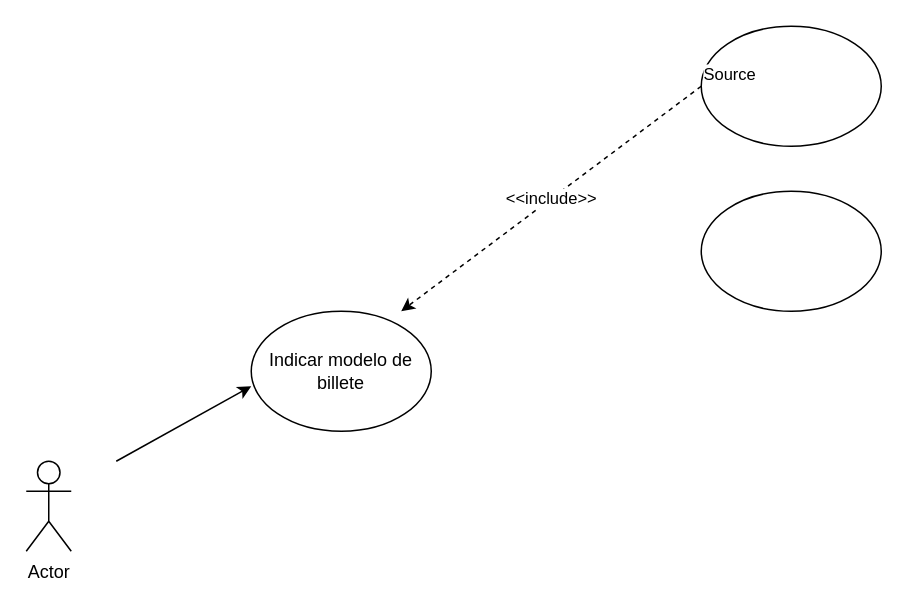
This 908x609 diagram has some shape labels left out. Here are the shapes that lost their labels. From the top down, the centre of each, then its label:
the point at 790,85: Avisar al BCE
the point at 790,250: Imprimir billetes
